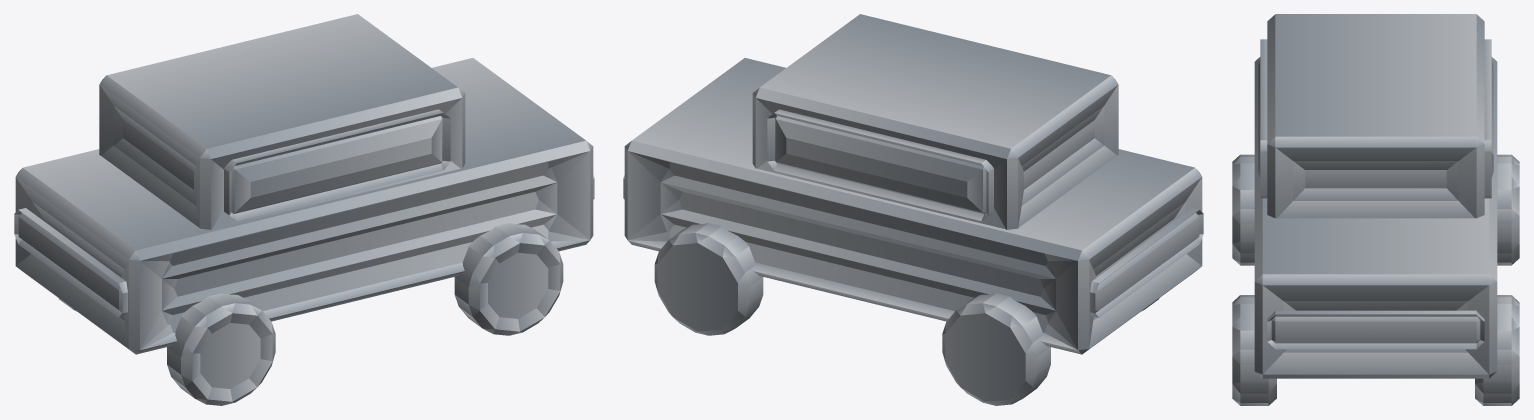
The model's file is dt_hatchback.fbx.
3 renders of one model, left to right at view 1: azimuth 30°, elevation 25°; view 2: azimuth 150°, elevation 25°; view 3: azimuth 270°, elevation 25°, orthographic.
Parts seen in each view (by area): view 1: dt_hatchback; view 2: dt_hatchback; view 3: dt_hatchback.
Boxes of the visible parts, x1,y1,x2,y2 form: dt_hatchback: (14,14,594,405); dt_hatchback: (623,14,1203,405); dt_hatchback: (1232,14,1519,405).
Bounding box in the file's own units: 1400 × 691 × 738.
